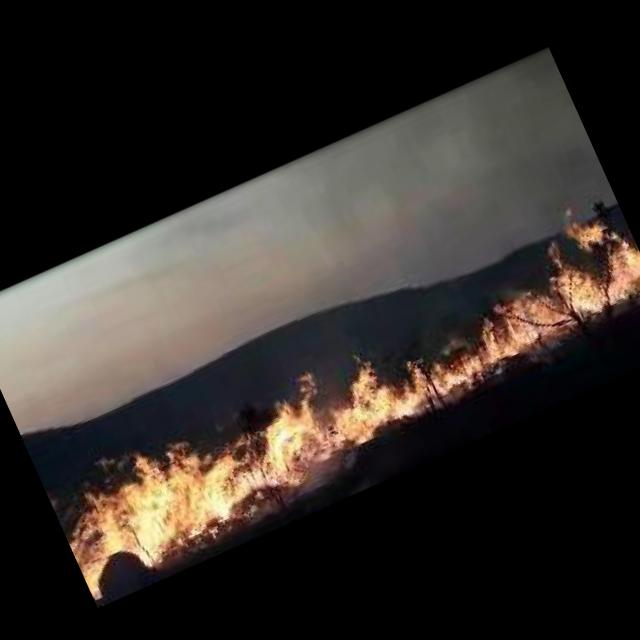fire: (27, 190, 640, 603)
